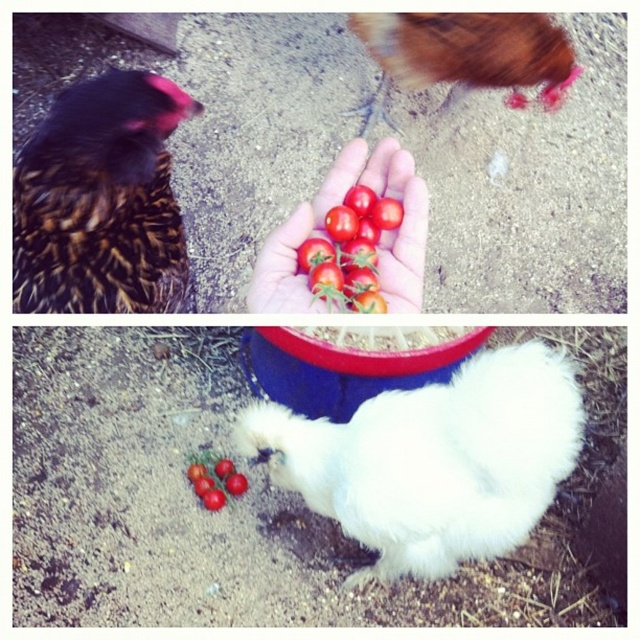Chicken: (231, 338, 611, 615), (14, 65, 208, 316)
